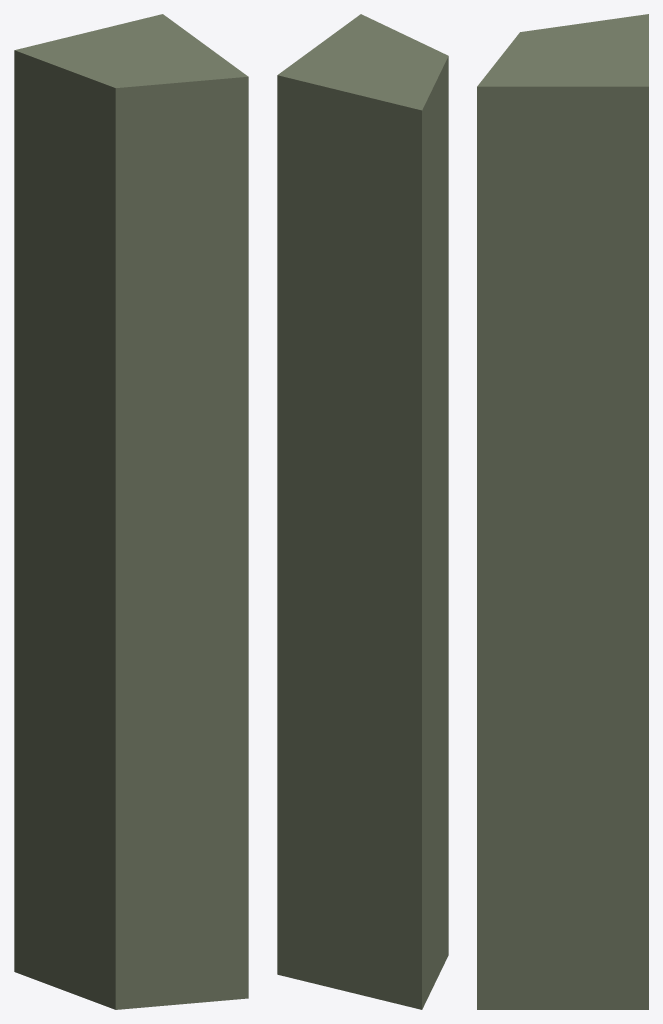
Rendered from kenney_nature-kit__cliff_corner_rock__meadow.fbx.
3 views of the same model, side by side, from view 1: azimuth 30°, elevation 25°; view 2: azimuth 150°, elevation 25°; view 3: azimuth 270°, elevation 25° (orthographic). The views are drawn at different scales.
Visible parts, largest first — view 1: kenney_nature-kit__cliff_corner_rock__meadow_stone; view 2: kenney_nature-kit__cliff_corner_rock__meadow_stone; view 3: kenney_nature-kit__cliff_corner_rock__meadow_stone.
Part boxes in pixels (x1,y1,x2,y2): kenney_nature-kit__cliff_corner_rock__meadow_stone: [14, 14, 248, 1009]; kenney_nature-kit__cliff_corner_rock__meadow_stone: [277, 14, 448, 1009]; kenney_nature-kit__cliff_corner_rock__meadow_stone: [477, 14, 648, 1009].
Bounding box in the file's own units: 0.6018 × 3.57 × 0.6018.
Materials: 1 (1 with a texture image).
